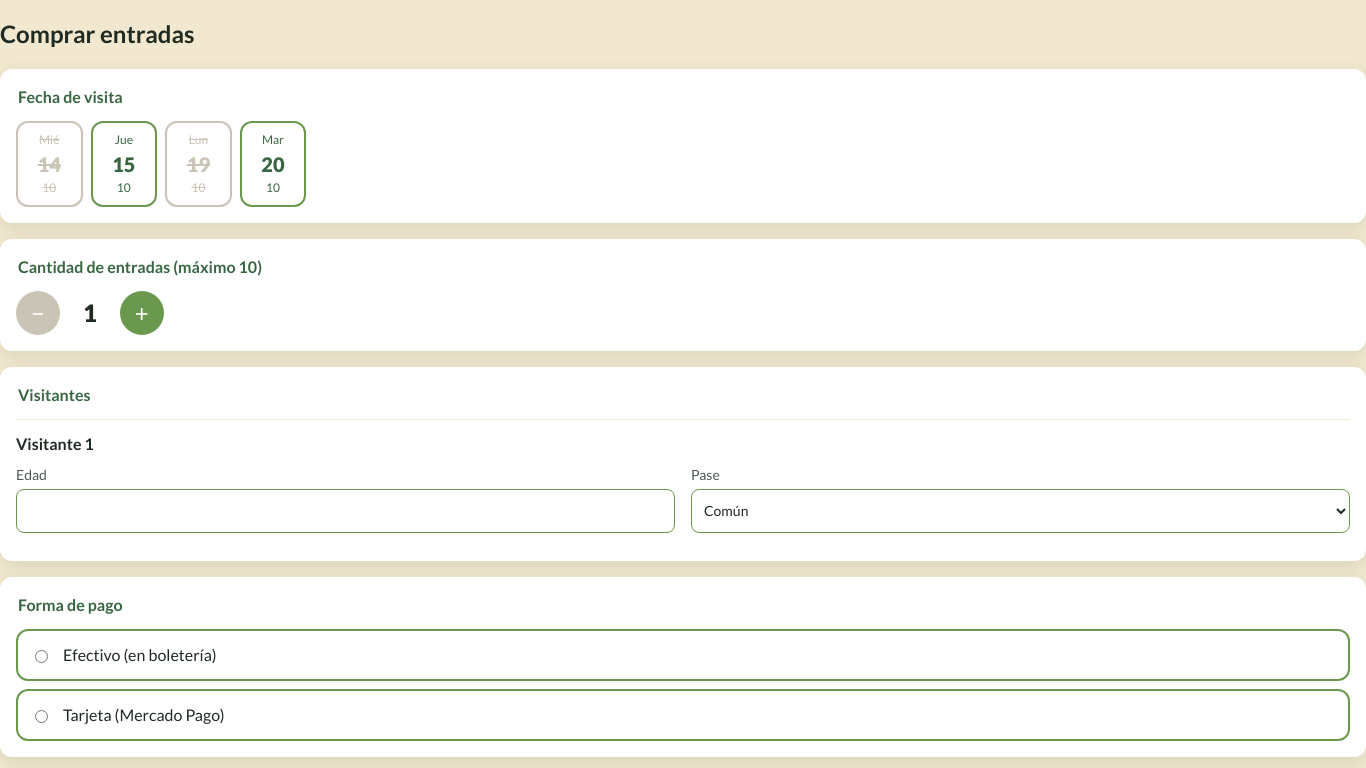
Test case: Formulario de compra de entradas › precio individual de cada entrada › muestra en cada visitante el precio cotizado por el servidor
Click the button named "Agregar una entrada" at (142, 313), box x1=120 y1=291 x2=164 y2=335
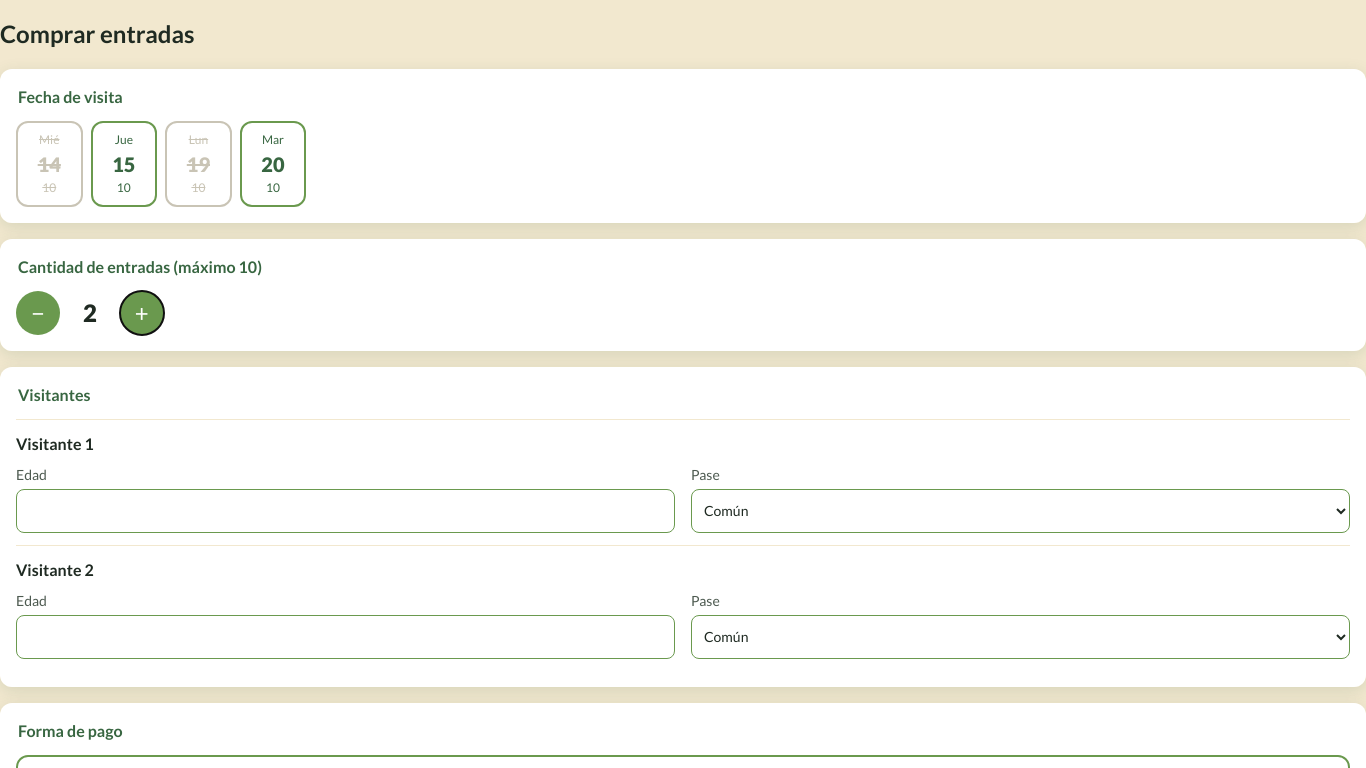
Type "30" into the number field named "Edad del visitante 1" at (346, 511), box x1=16 y1=489 x2=675 y2=533
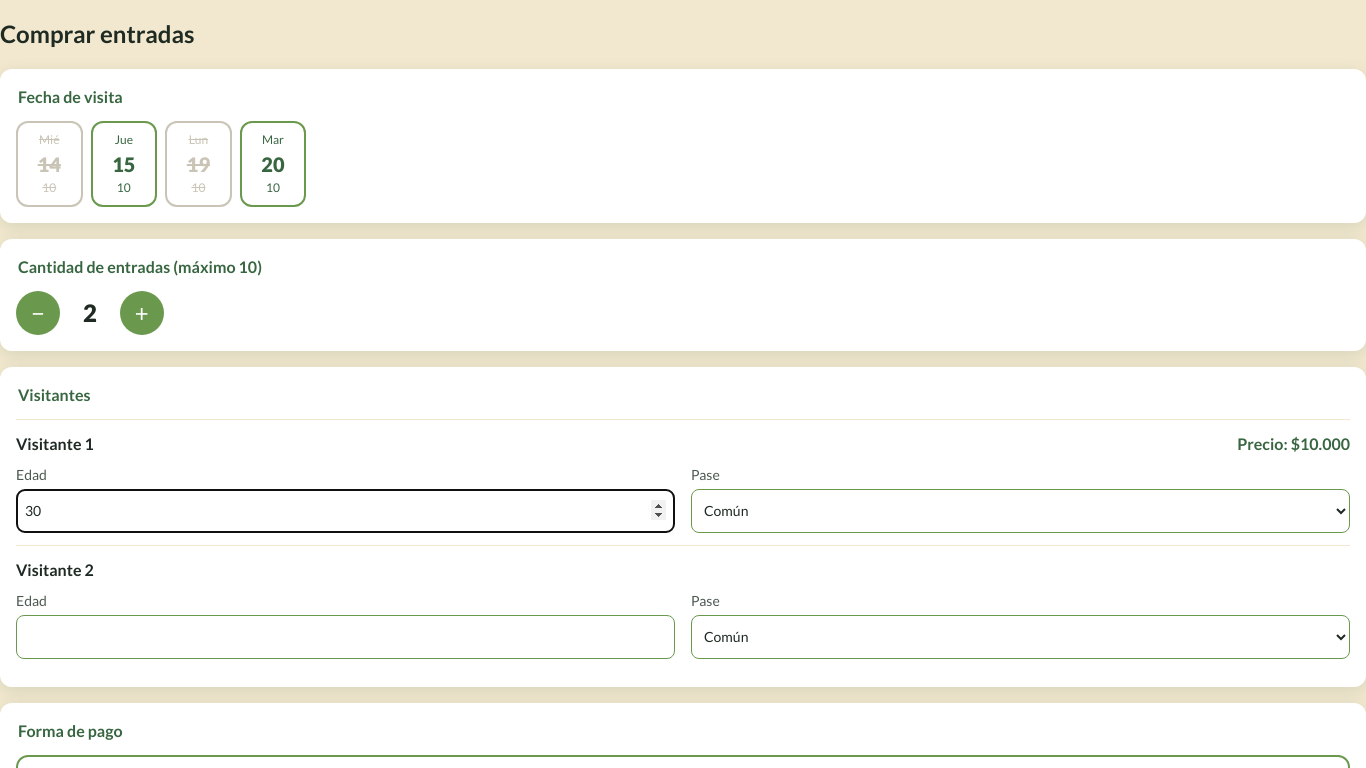
Select "Común" in the dropdown labelled "Pase" below "Precio:" at (1020, 511), box x1=691 y1=489 x2=1350 y2=533
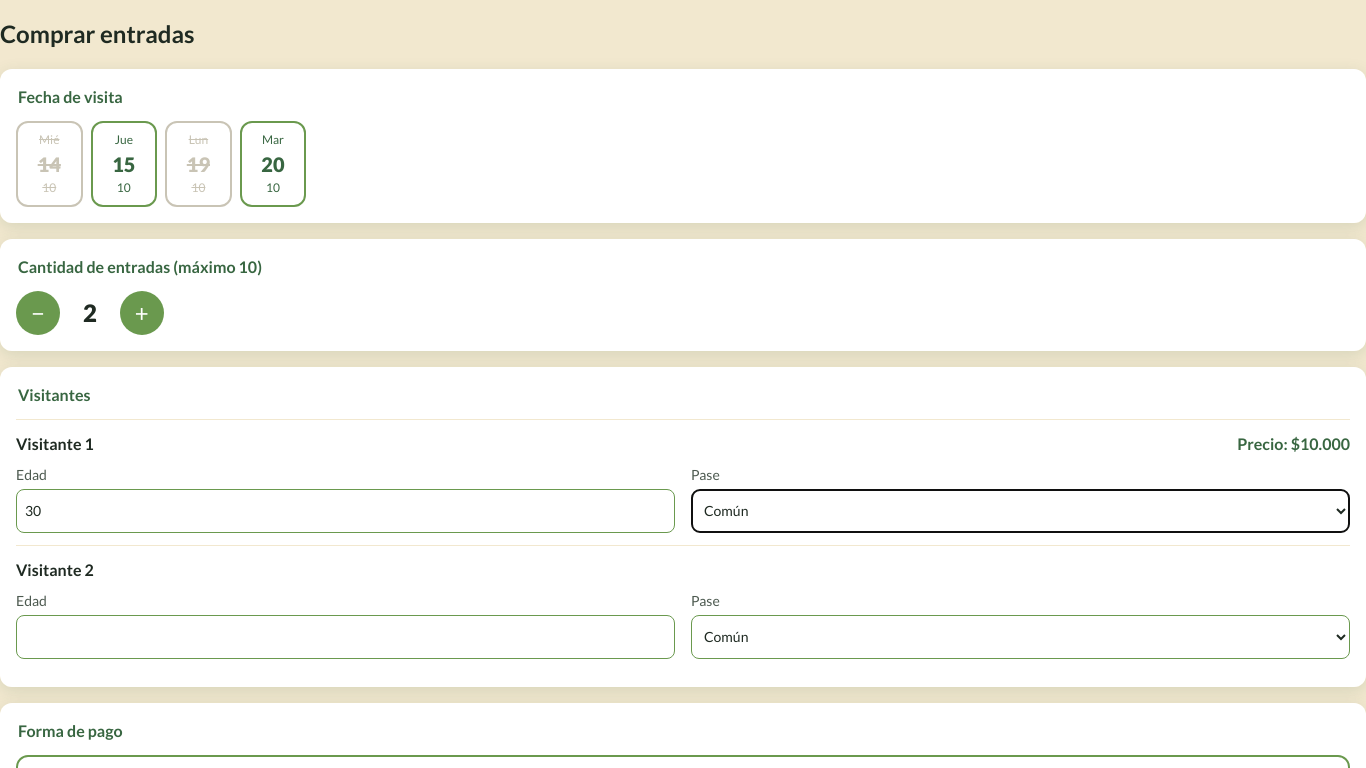
Type "35" into the number field named "Edad del visitante 2" at (346, 637), box x1=16 y1=615 x2=675 y2=659
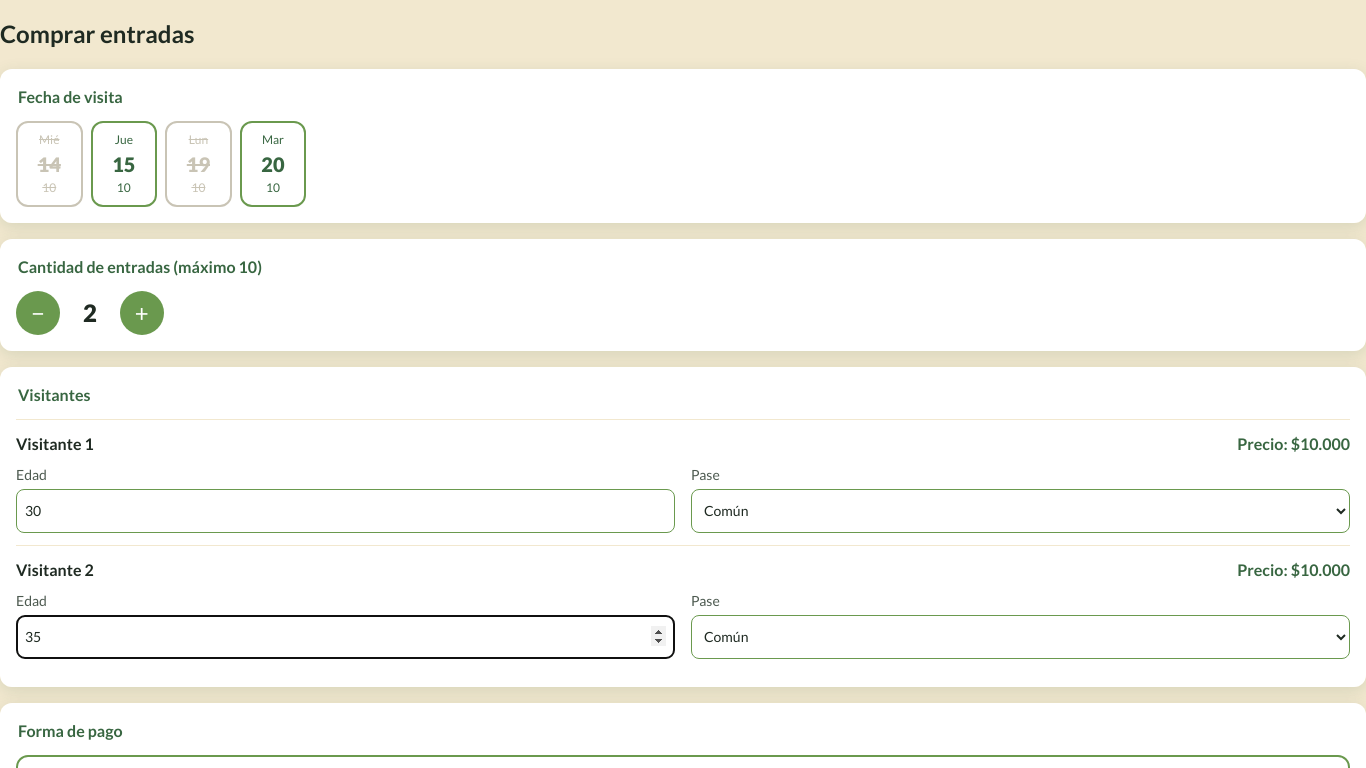
Select "VIP" in the dropdown named "Pase del visitante 2" at (1020, 637), box x1=691 y1=615 x2=1350 y2=659
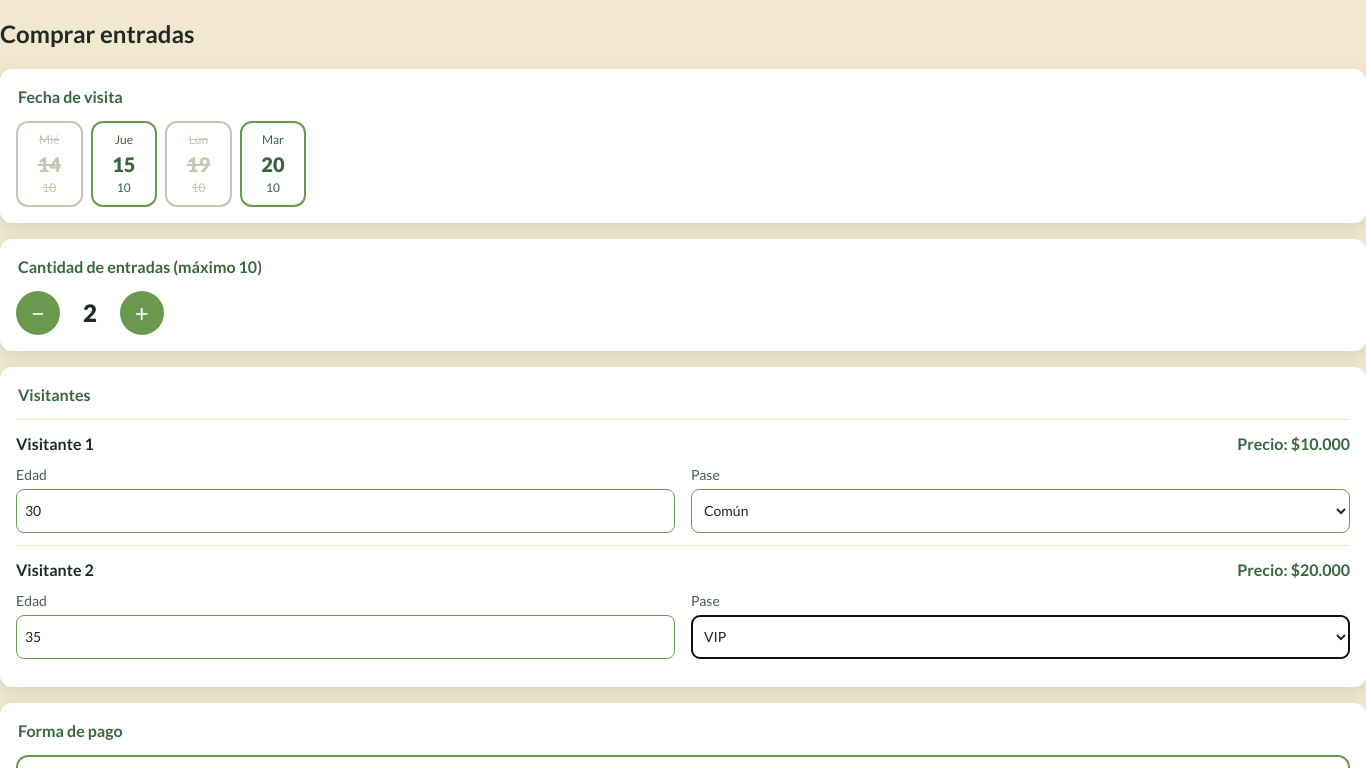
Check: the text "Precio: $10.000" is shown, box x1=1237 y1=432 x2=1350 y2=456
Check: the text "Precio: $20.000" is shown, box x1=1237 y1=558 x2=1350 y2=582
